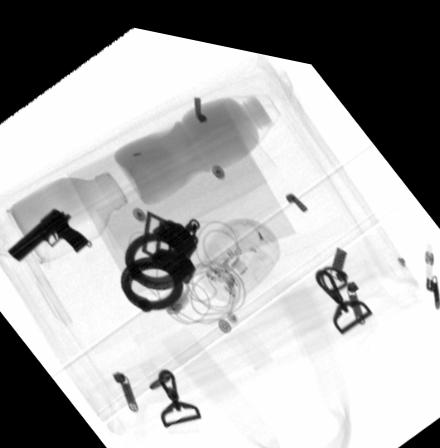Gun: (6, 202, 92, 262)
HandCuffs: (118, 206, 199, 308)
